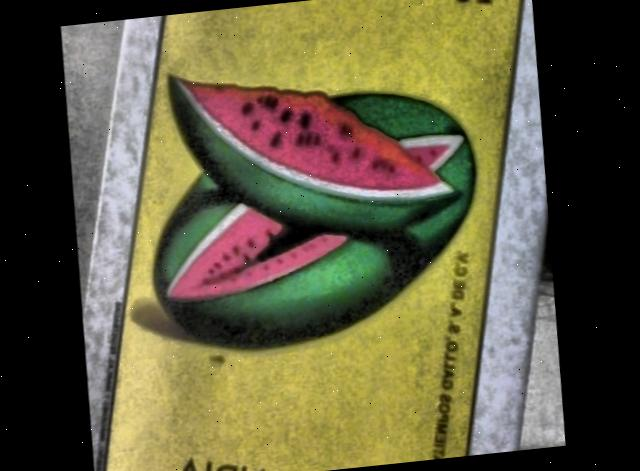La Sandia: (112, 0, 519, 471)
